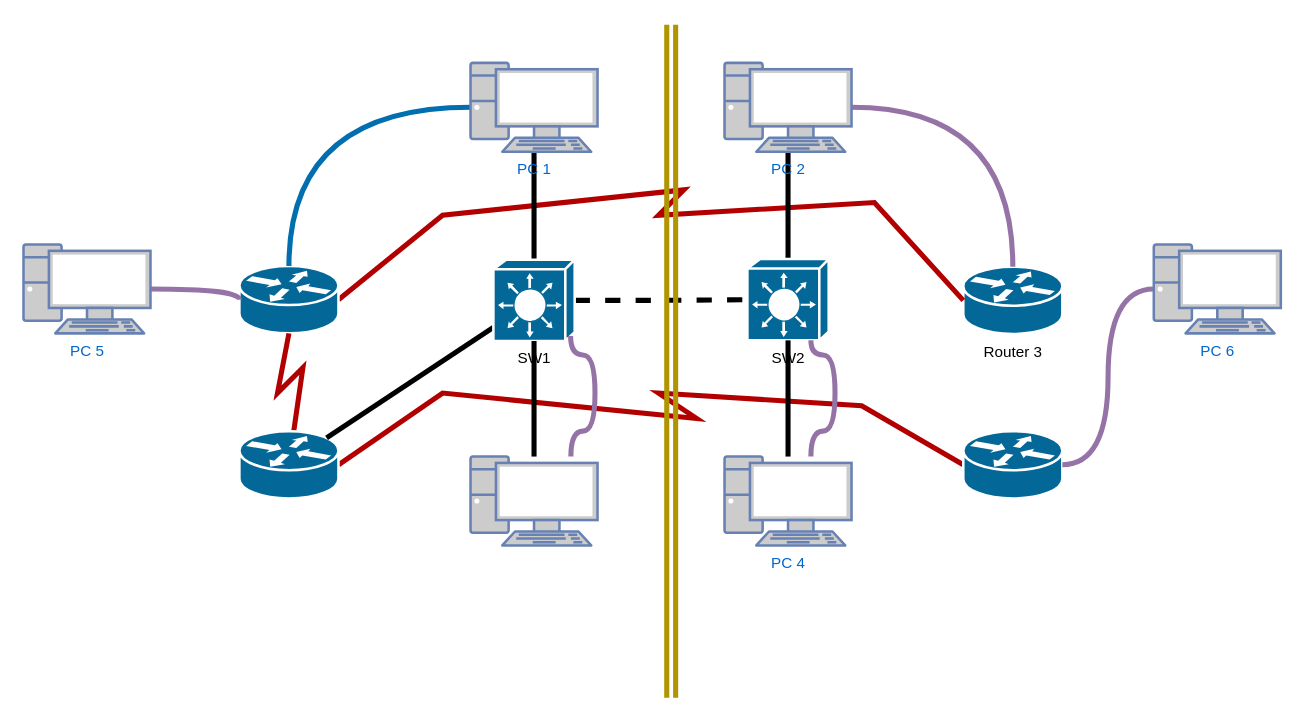
The diagram is 1303 pixels wide and 721 high, and some of its shapes have lost their labels. The shapes that lost their labels are listed below. From the top down, each one's centre as x and y in pixels, then its label:
(x=288, y=299): Router 1
(x=288, y=464): Router 2
(x=1012, y=464): Router 4
(x=533, y=500): PC 3
